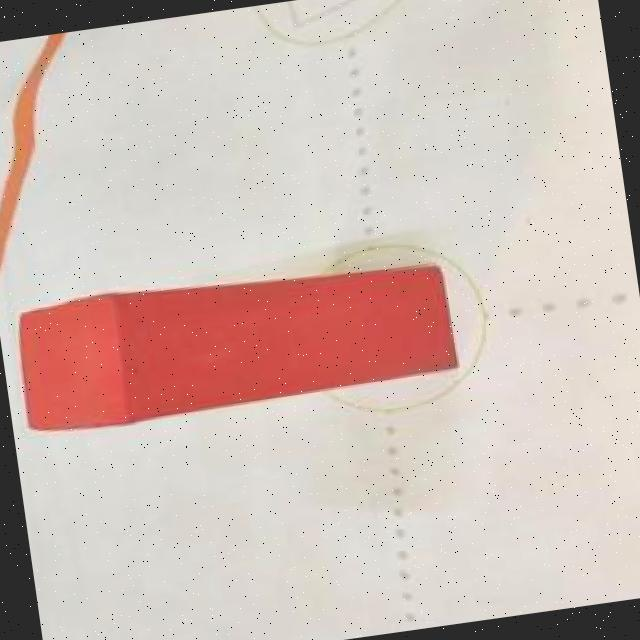redbox: (14, 256, 463, 438)
